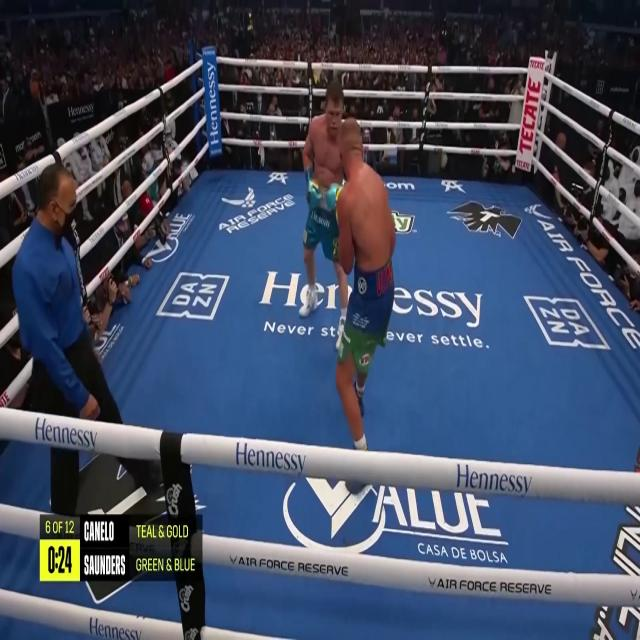boxer_1: (340, 114, 390, 272)
boxer_2: (314, 81, 344, 187)
gloves_1: (335, 187, 342, 222)
gloves_2: (304, 168, 323, 211), (326, 182, 342, 209)
